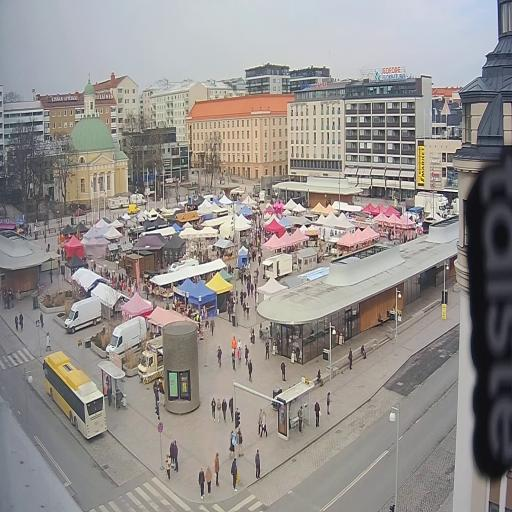bus: (40, 346, 111, 447)
delivery: (103, 308, 152, 361), (62, 292, 107, 338), (413, 192, 449, 222), (129, 192, 149, 208), (125, 202, 141, 216)
